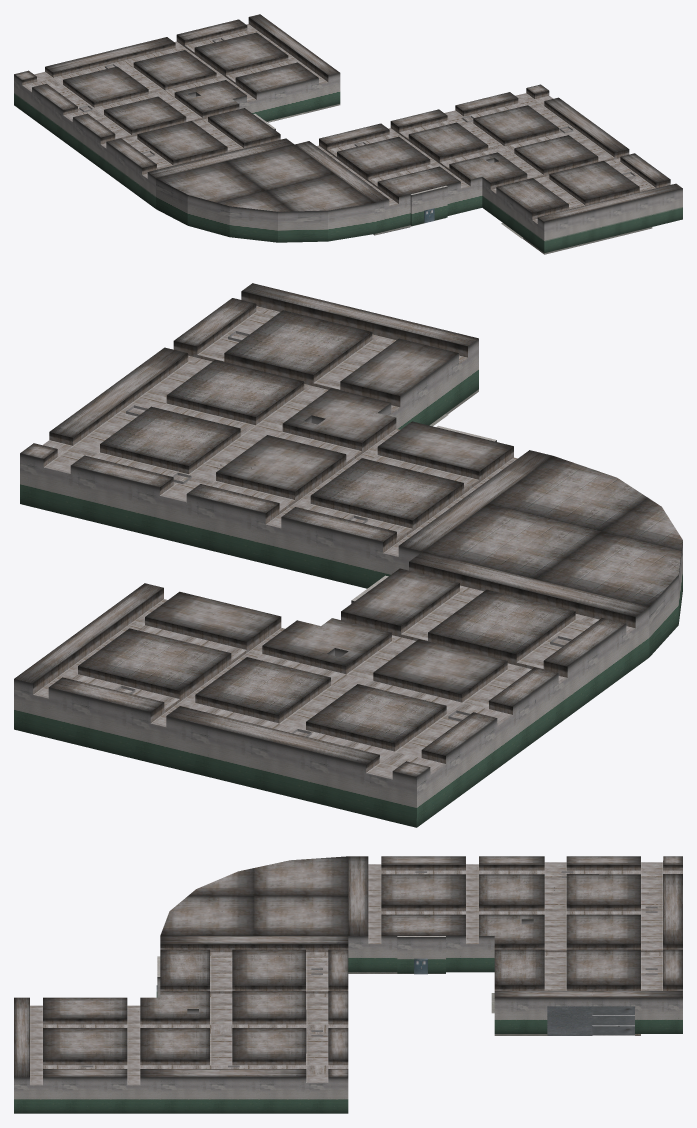
Rendered from carimp_sfe.obj.
3 renders of one model, top to bottom at view 1: azimuth 30°, elevation 25°; view 2: azimuth 150°, elevation 25°; view 3: azimuth 270°, elevation 25°, orthographic. The views are drawn at different scales.
Visible parts, largest first — view 1: carimp_SFE; view 2: carimp_SFE; view 3: carimp_SFE.
Boxes of the visible parts, x1,y1,x2,y2 form: carimp_SFE: [14, 14, 682, 254]; carimp_SFE: [14, 283, 682, 827]; carimp_SFE: [14, 856, 682, 1113].
Bounding box in the file's own units: 88.19 × 7.19 × 113.
Materials: 13 (13 with a texture image).
